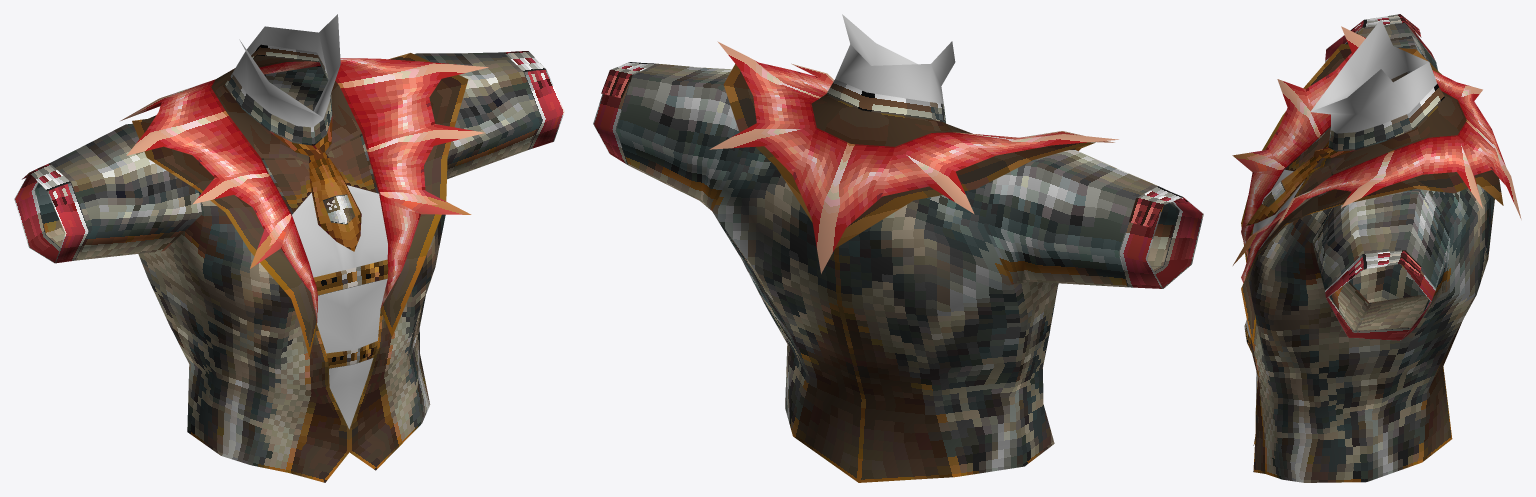
The model's file is m_plate105.obj.
3 renders of one model, left to right at view 1: azimuth 30°, elevation 25°; view 2: azimuth 150°, elevation 25°; view 3: azimuth 270°, elevation 25°, orthographic. The views are drawn at different scales.
Parts seen in each view (by area): view 1: mesh00, mesh02, mesh01; view 2: mesh00, mesh02; view 3: mesh00, mesh02.
Boxes of the visible parts, x1,y1,x2,y2 form: mesh00: [14, 44, 564, 482]; mesh02: [232, 14, 387, 429]; mesh01: [323, 194, 355, 224]; mesh00: [593, 41, 1203, 482]; mesh02: [835, 14, 955, 104]; mesh00: [1232, 14, 1521, 482]; mesh02: [1245, 19, 1437, 410].
Bounding box in the file's own units: 72 × 55.84 × 35.26.
